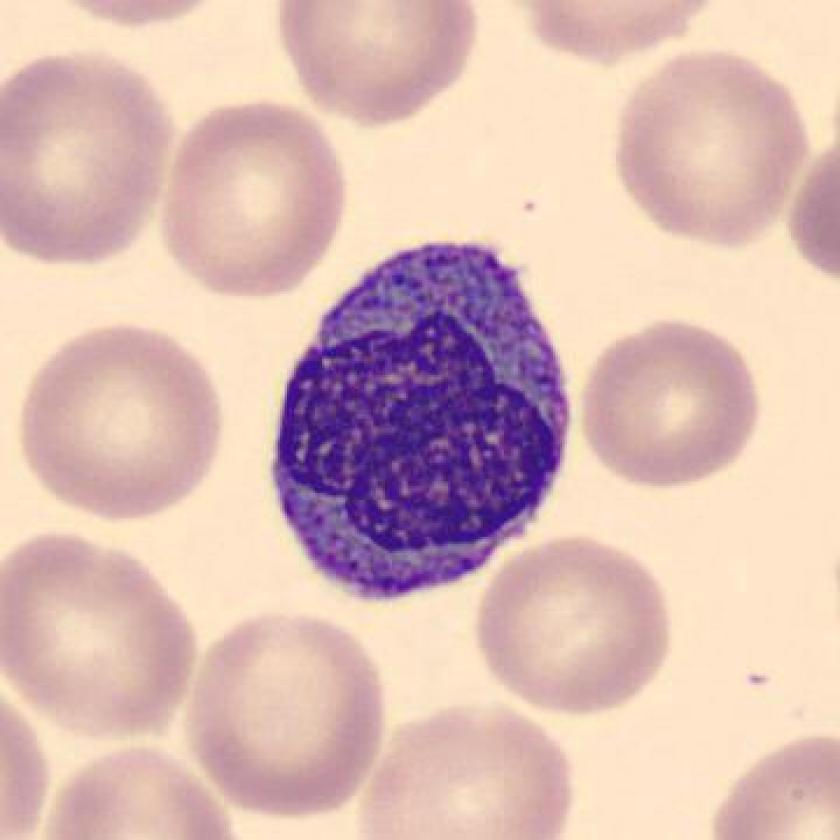monocyte: (251, 216, 601, 628)
